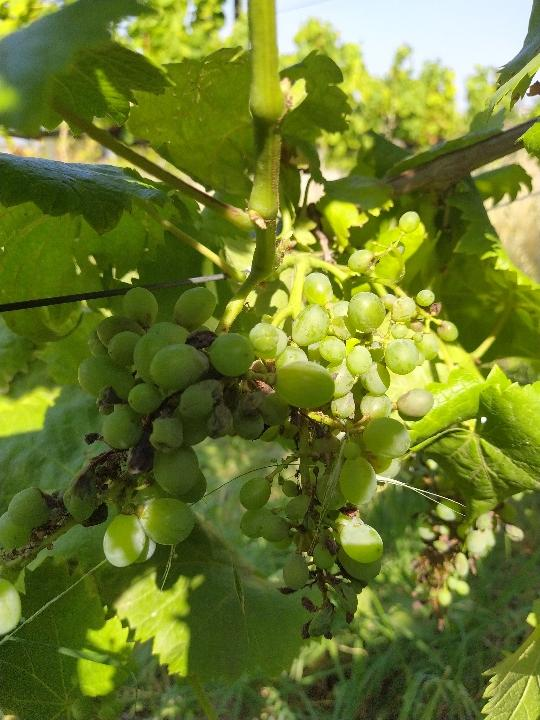grape: (4, 212, 458, 648)
